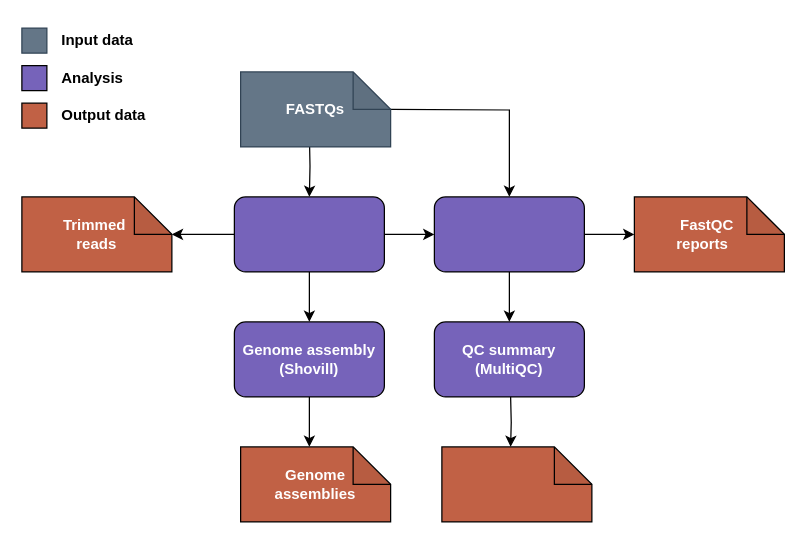
Some shapes in this 806 by 544 pixel diagram are drawn without their labels. Here are the shapes that lost their labels. From the top down, the centre of each, then its label:
At point 308,234: "Trim reads (Seqtk)".
At point 508,234: "Read QC (FastQC)".
At point 516,484: "Output report".
